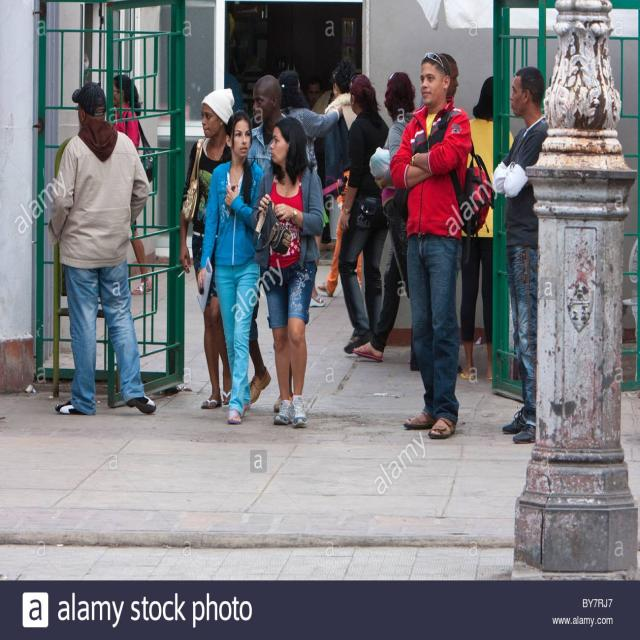body: (387, 49, 495, 441), (46, 80, 158, 416), (245, 112, 325, 429), (492, 64, 552, 446), (195, 108, 265, 426), (457, 70, 519, 386), (177, 86, 236, 408), (352, 70, 416, 361), (244, 73, 295, 412), (277, 69, 344, 308), (338, 72, 392, 356), (316, 64, 362, 298), (112, 73, 156, 297), (418, 51, 461, 110), (312, 84, 336, 111), (81, 49, 92, 78)
